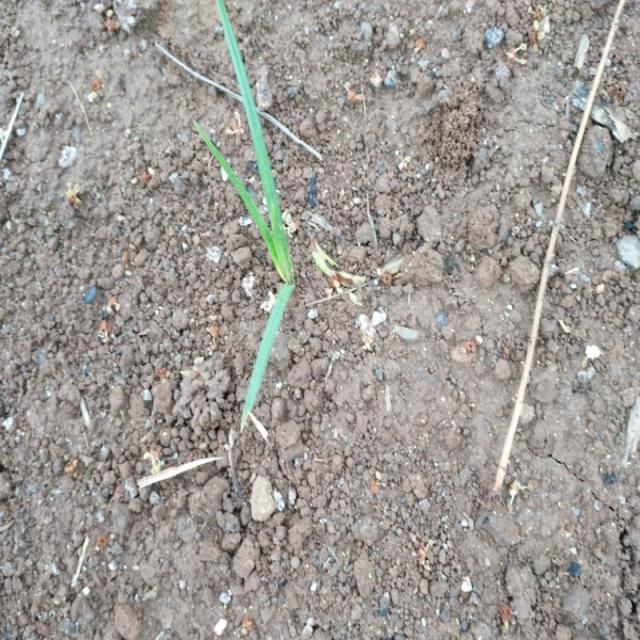sedge: (151, 0, 351, 430)
